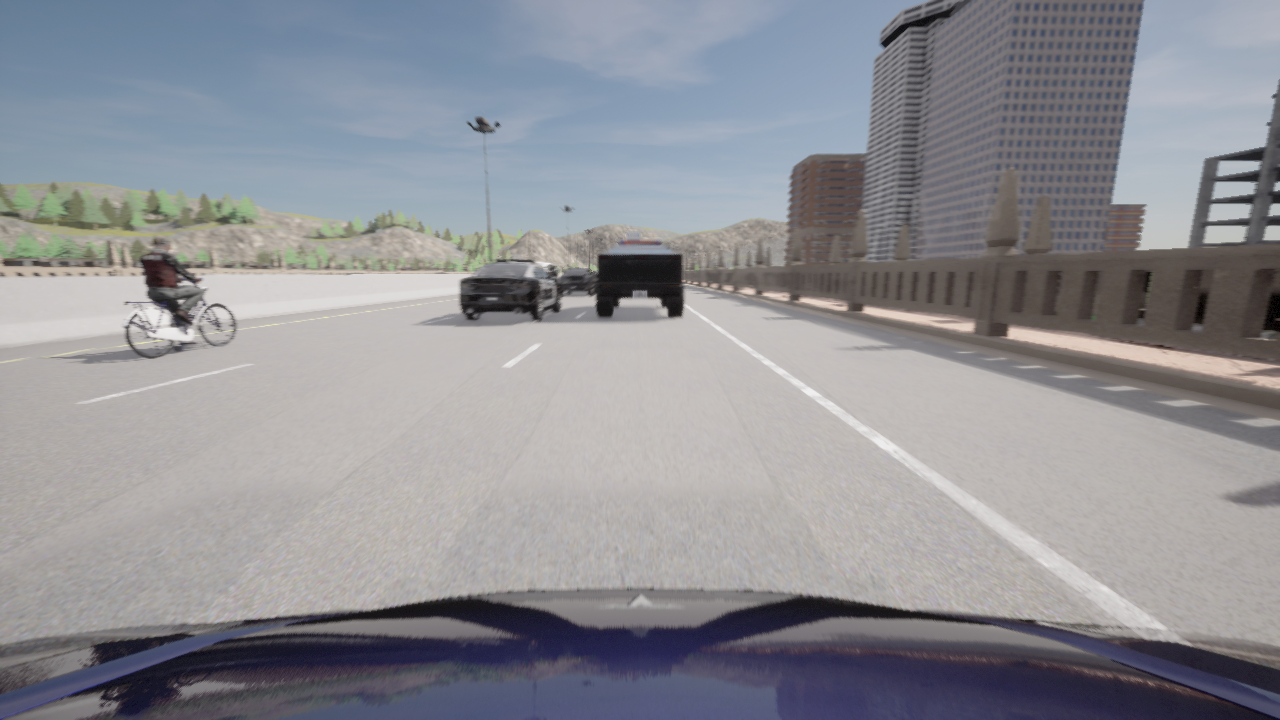cyclist: (0, 588, 1279, 719), (123, 278, 235, 357), (460, 258, 560, 320), (596, 245, 683, 316), (558, 268, 597, 295), (533, 261, 558, 282), (618, 232, 661, 244), (593, 271, 597, 280)
